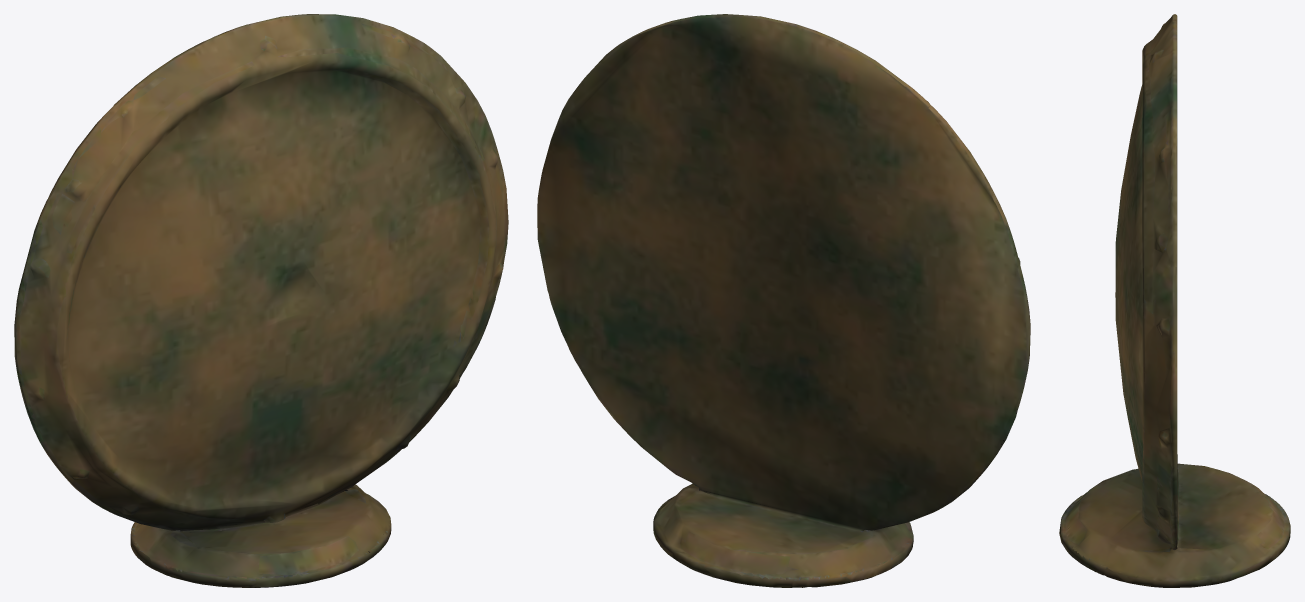
Rendered from simple-bronze-suit-of-armour-v002.glb.
3 renders of one model, left to right at view 1: azimuth 30°, elevation 25°; view 2: azimuth 150°, elevation 25°; view 3: azimuth 270°, elevation 25°, orthographic. The views are drawn at different scales.
Visible parts, largest first — view 1: simple-bronze-suit-of-armour; view 2: simple-bronze-suit-of-armour; view 3: simple-bronze-suit-of-armour.
Part boxes in pixels (x1,y1,x2,y2): simple-bronze-suit-of-armour: (14,14,508,587); simple-bronze-suit-of-armour: (537,14,1030,587); simple-bronze-suit-of-armour: (1059,14,1290,587).
Size of the model in its own units: 1.93 by 1.93 by 0.8186.
1 material, 1 textured.
